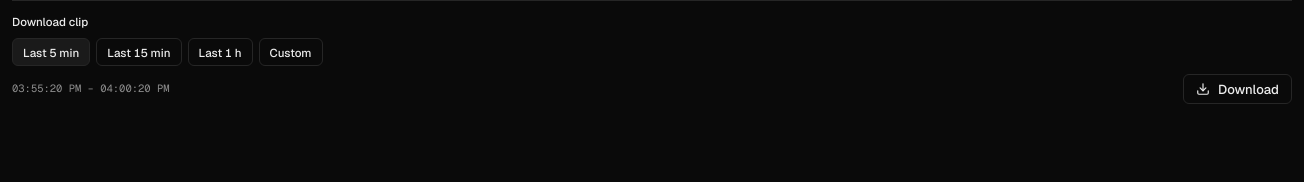
Test case: a custom range › starts at the latest span when nothing is playing
The image size is (1304, 182).
Step 1. Click the button "Custom" → (291, 52), box x1=259 y1=38 x2=322 y2=66
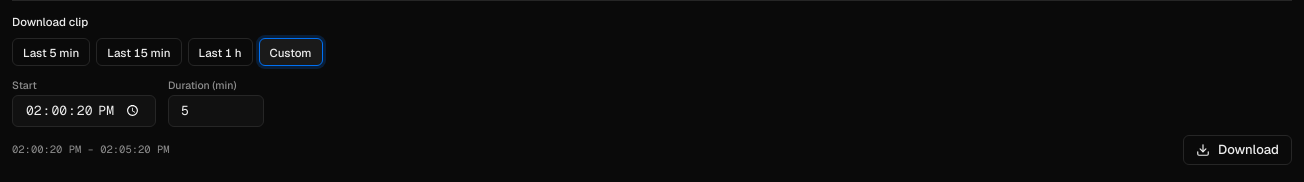
expect the time field labelled "Start" holds "14:00:20": met, box x1=12 y1=94 x2=156 y2=126
